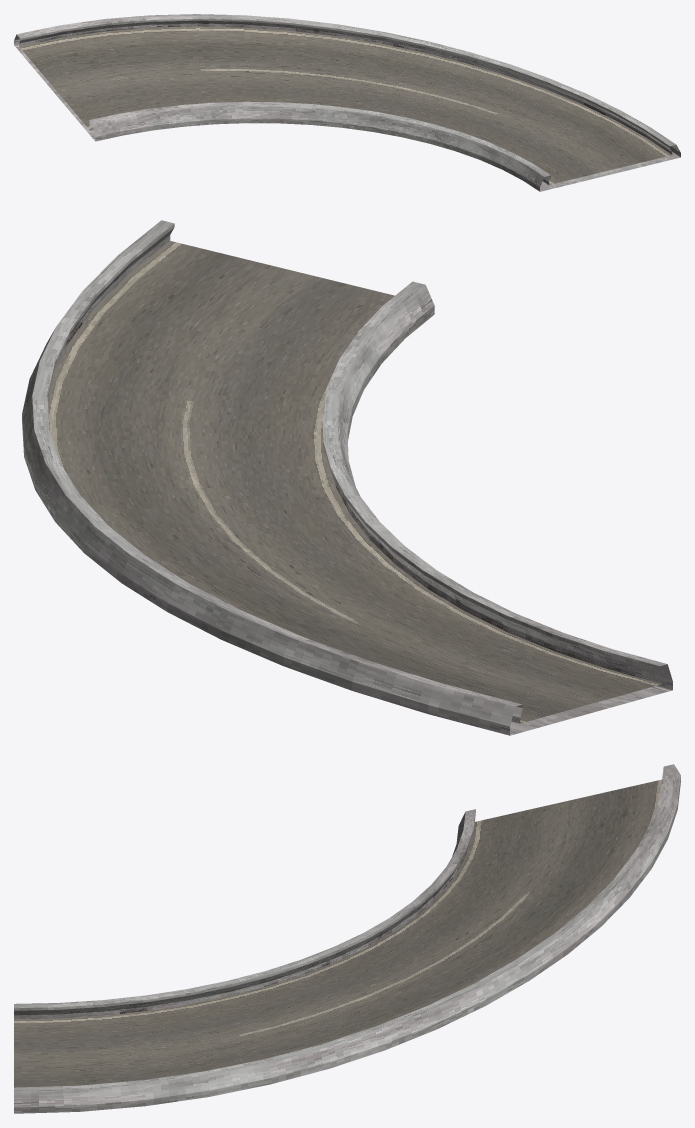
File: road-Turn-Flat-HalfBankedLeft-Even-Left-Size3.glb
3 renders of one model, top to bottom at view 1: azimuth 30°, elevation 25°; view 2: azimuth 150°, elevation 25°; view 3: azimuth 270°, elevation 25°, orthographic. The views are drawn at different scales.
Visible parts, largest first — view 1: road-Turn-Flat-HalfBankedLeft-Even-Left-Size3; view 2: road-Turn-Flat-HalfBankedLeft-Even-Left-Size3; view 3: road-Turn-Flat-HalfBankedLeft-Even-Left-Size3.
Part boxes in pixels (x1=…): road-Turn-Flat-HalfBankedLeft-Even-Left-Size3: x1=14, y1=14, x2=680, y2=191; road-Turn-Flat-HalfBankedLeft-Even-Left-Size3: x1=22, y1=220, x2=672, y2=735; road-Turn-Flat-HalfBankedLeft-Even-Left-Size3: x1=14, y1=764, x2=680, y2=1113.
Size of the model in its own units: 3 by 0.3359 by 3.
Materials: 2 (2 with a texture image).
